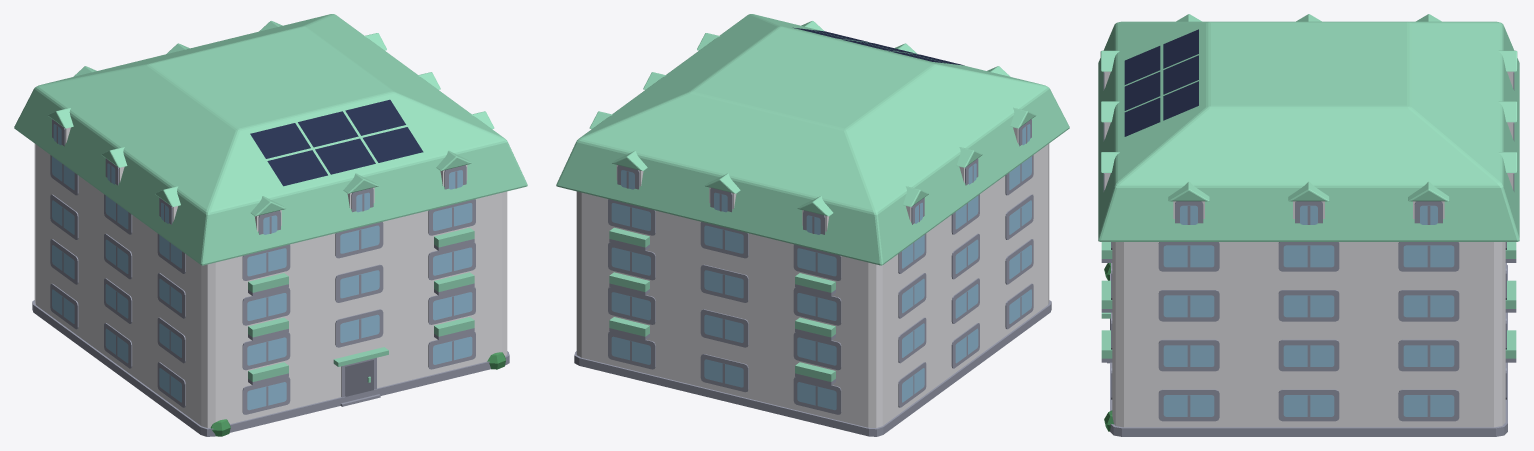
Rendered from house-2x2-4f-tone-a-solar.glb.
The picture shows the model from 3 angles, left to right: view 1: azimuth 30°, elevation 25°; view 2: azimuth 150°, elevation 25°; view 3: azimuth 270°, elevation 25°; orthographic projection. The views are drawn at different scales.
Visible parts, largest first — view 1: house-2x2-4f-tone-a-solar; view 2: house-2x2-4f-tone-a-solar; view 3: house-2x2-4f-tone-a-solar.
Part boxes in pixels (box(x1,y1,x2,y2)): house-2x2-4f-tone-a-solar: box(14, 14, 527, 436); house-2x2-4f-tone-a-solar: box(556, 14, 1069, 436); house-2x2-4f-tone-a-solar: box(1098, 14, 1519, 436).
Size of the model in its own units: 1.99 by 1.51 by 1.99.
1 material, 1 textured.
